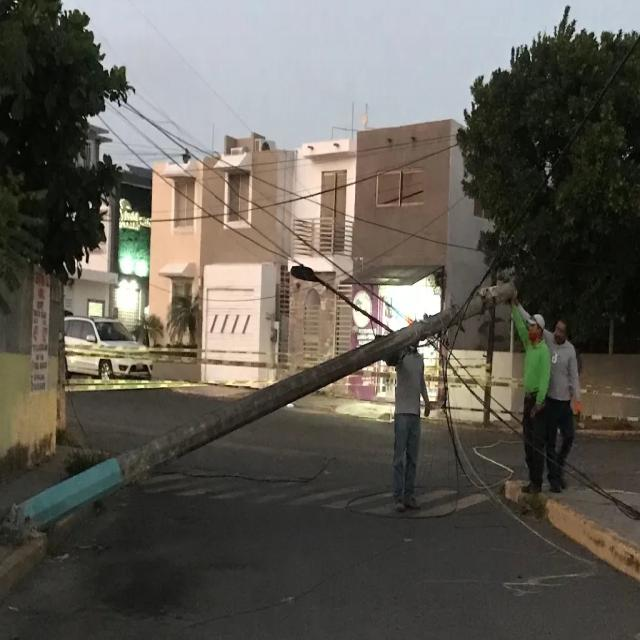Inclined Pole: (5, 259, 523, 536)
